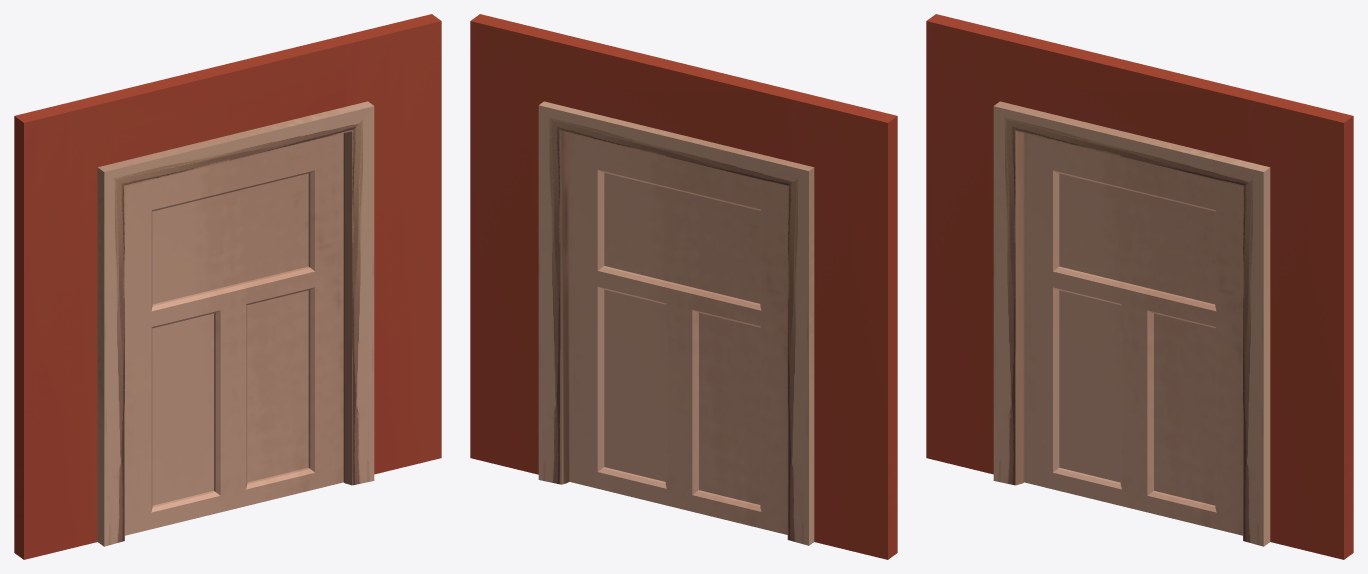
The model's file is Desert_Door.fbx.
The picture shows the model from 3 angles, left to right: view 1: azimuth 30°, elevation 25°; view 2: azimuth 150°, elevation 25°; view 3: azimuth 330°, elevation 25°; orthographic projection.
Parts seen in each view (by area): view 1: Wall_DoorCutout, Door, Door_Frame; view 2: Wall_DoorCutout, Door, Door_Frame; view 3: Wall_DoorCutout, Door, Door_Frame.
Boxes of the visible parts, bbox=[...] form: Wall_DoorCutout: bbox=[14, 14, 441, 559]; Door: bbox=[125, 133, 343, 535]; Door_Frame: bbox=[97, 101, 374, 546]; Wall_DoorCutout: bbox=[470, 14, 897, 559]; Door: bbox=[569, 133, 787, 534]; Door_Frame: bbox=[538, 101, 814, 545]; Wall_DoorCutout: bbox=[926, 14, 1353, 559]; Door: bbox=[1024, 133, 1242, 535]; Door_Frame: bbox=[993, 101, 1270, 546].
Size of the model in its own units: 5 by 5 by 0.4449.
